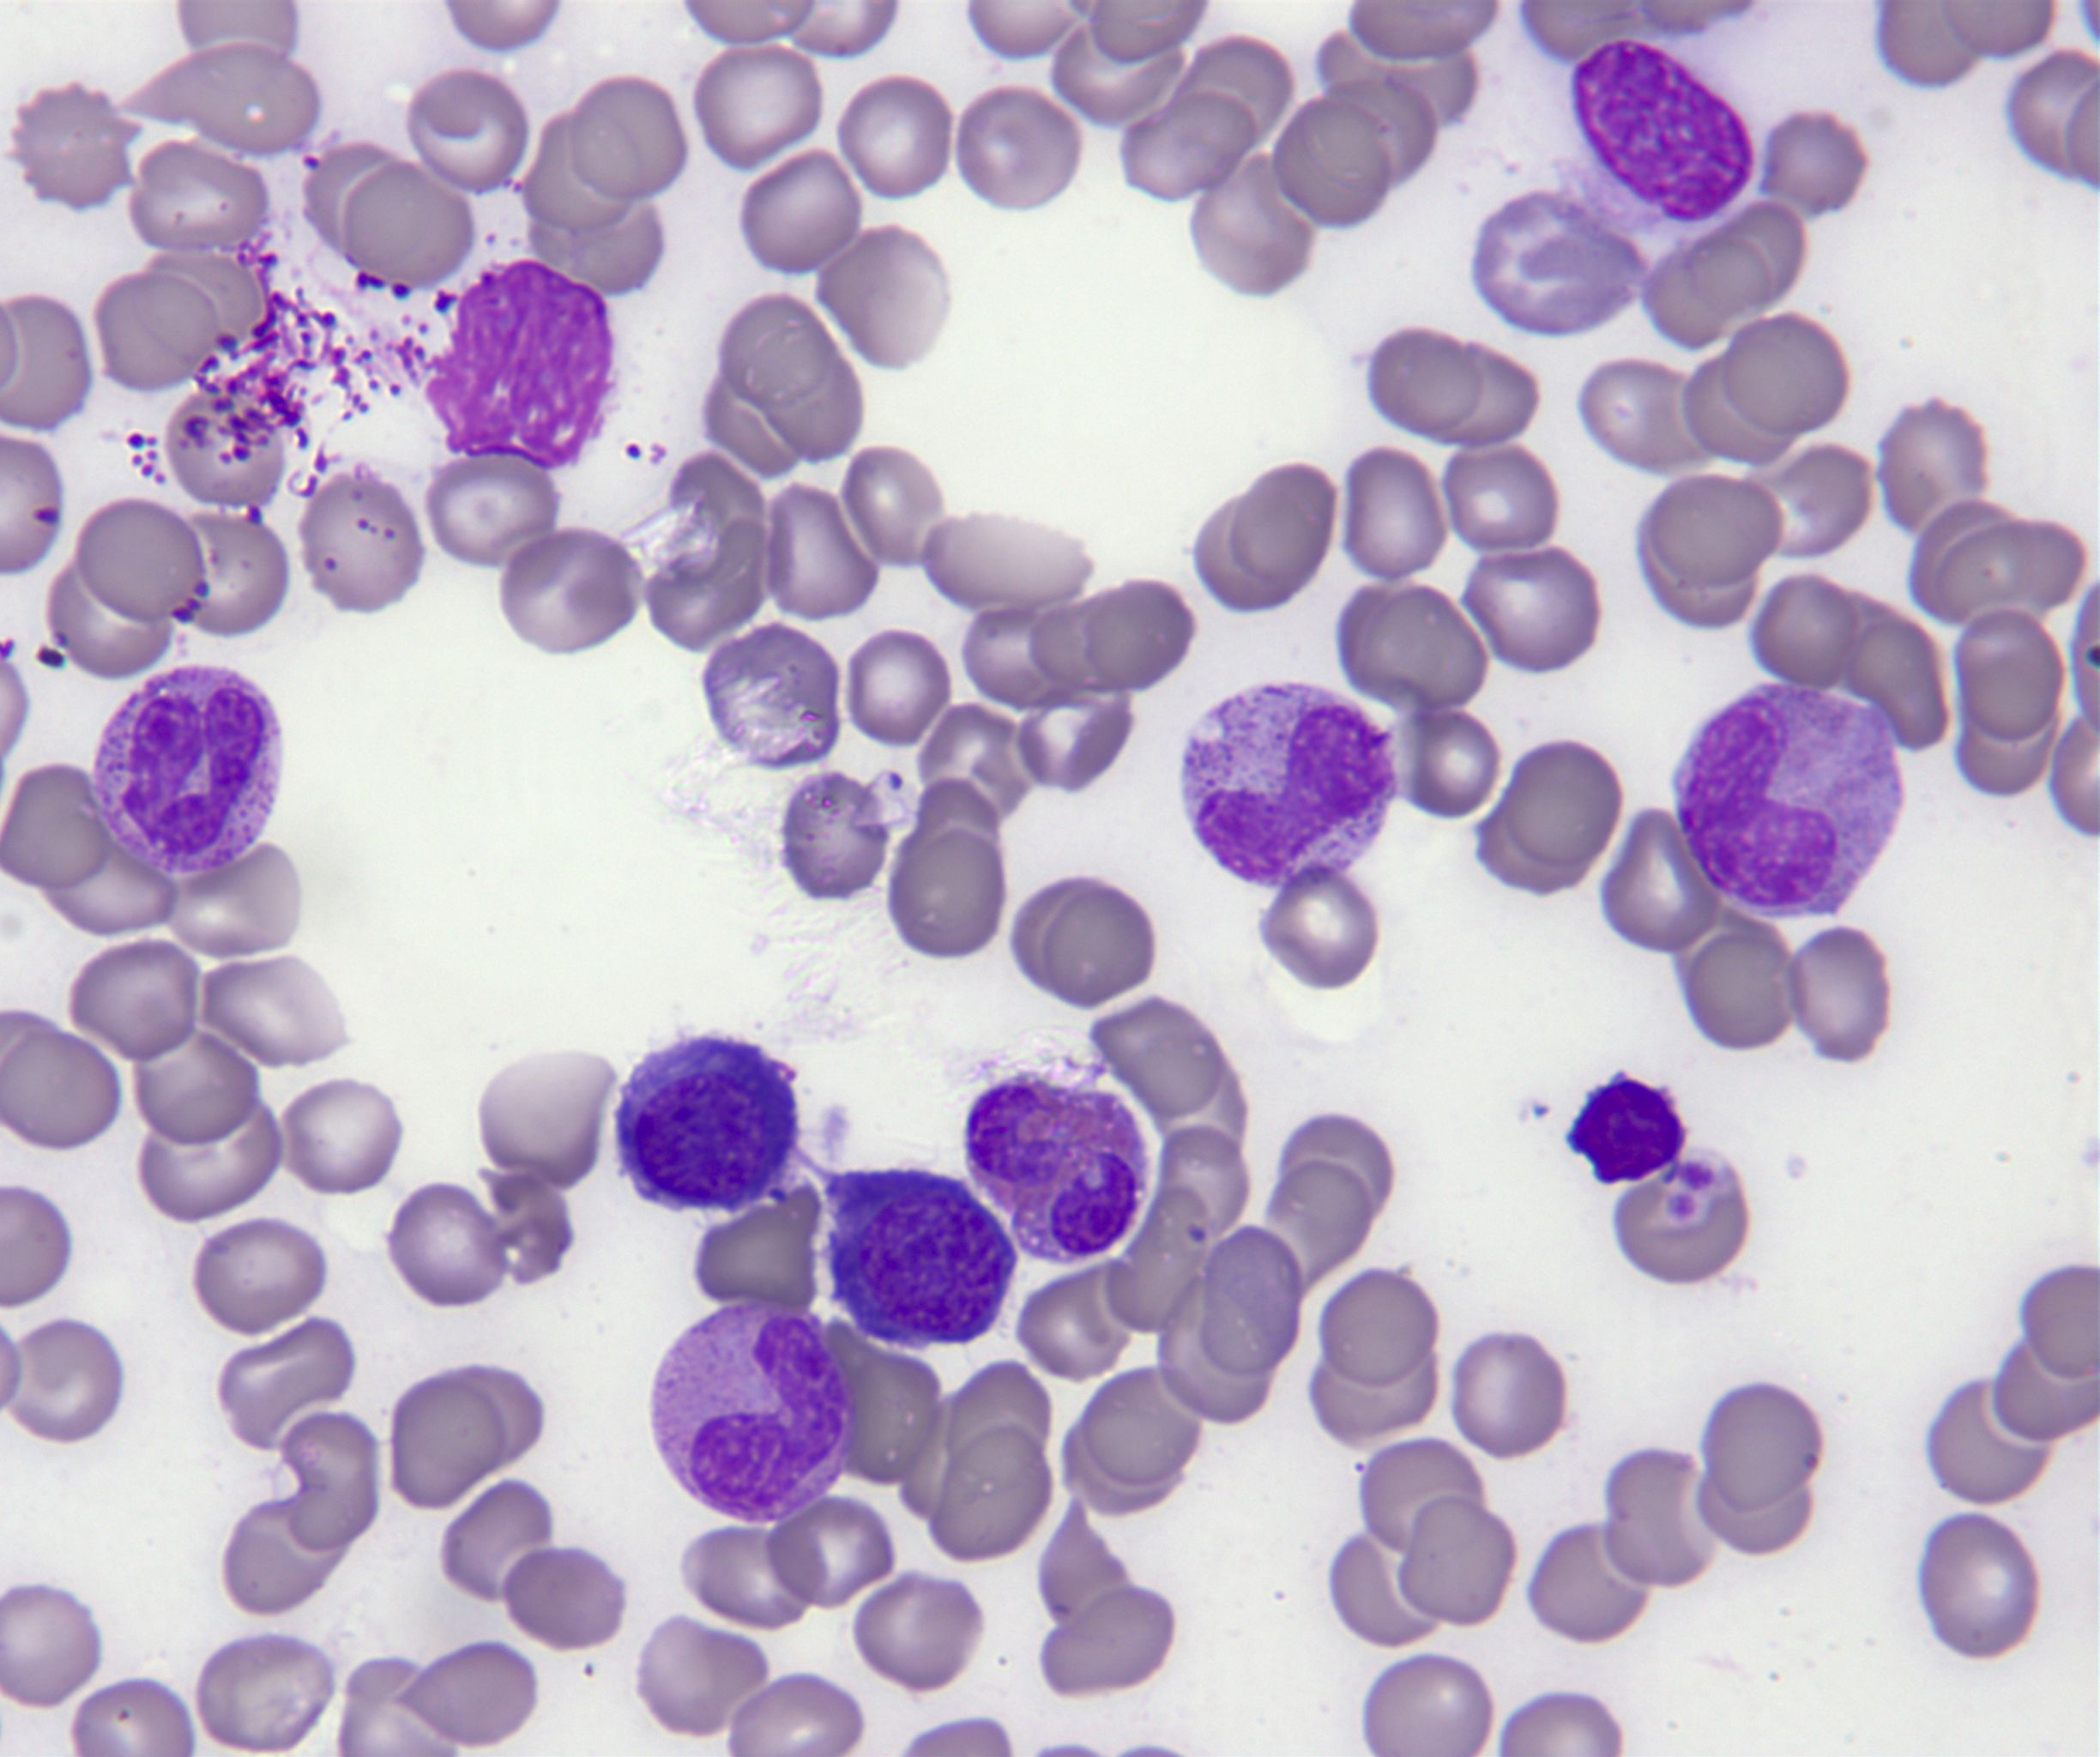23: (822, 1167, 1017, 1347), (617, 1033, 806, 1209)
32: (1566, 1064, 1701, 1186)
5: (1674, 680, 1908, 918), (1181, 684, 1395, 886), (651, 1305, 849, 1521), (92, 667, 277, 878)
E4: (968, 1070, 1151, 1261)
